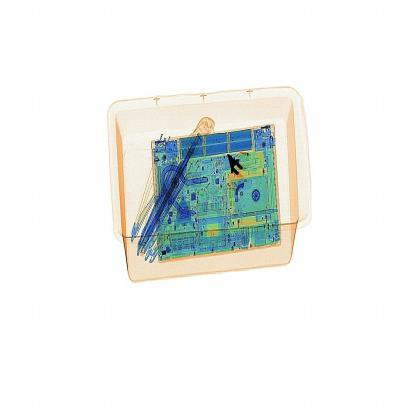gun: (224, 148, 258, 200)
